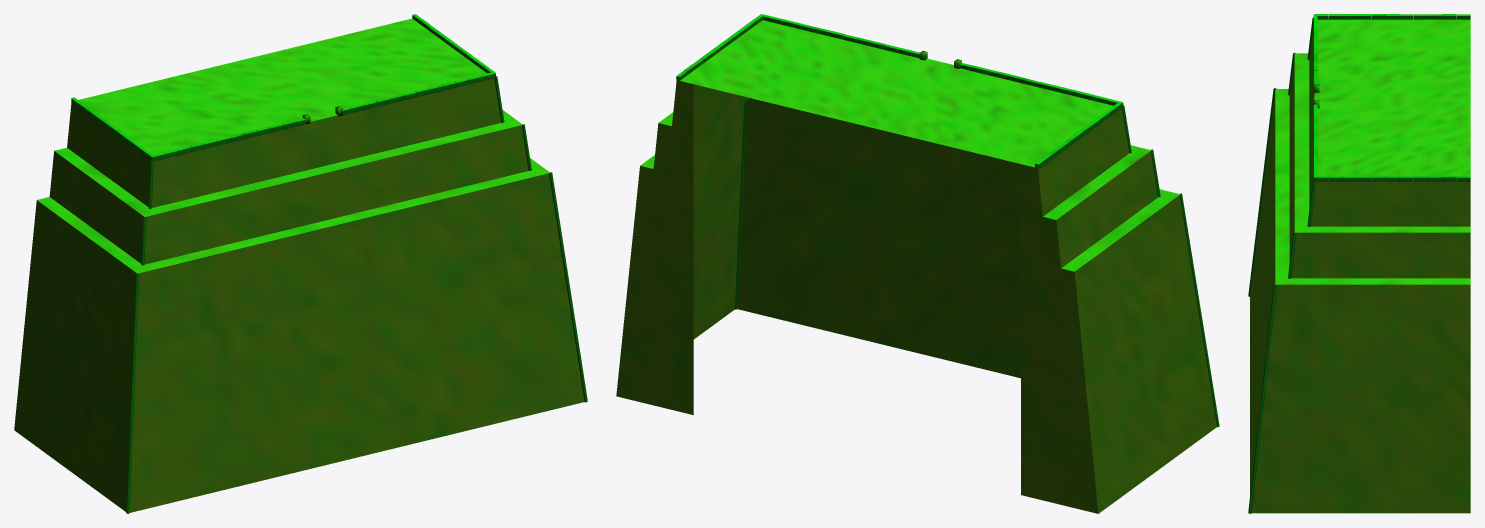
File: forecourt.glb
3 views of the same model, side by side, from view 1: azimuth 30°, elevation 25°; view 2: azimuth 150°, elevation 25°; view 3: azimuth 270°, elevation 25° (orthographic). The views are drawn at different scales.
Parts seen in each view (by area): view 1: forecourt; view 2: forecourt; view 3: forecourt.
Part boxes in pixels (bbox=[...]): forecourt: bbox=[14, 14, 587, 513]; forecourt: bbox=[616, 14, 1219, 513]; forecourt: bbox=[1248, 14, 1470, 513].
Size of what is drawn, in the model's own units: 85.97 by 57.11 by 36.98.
